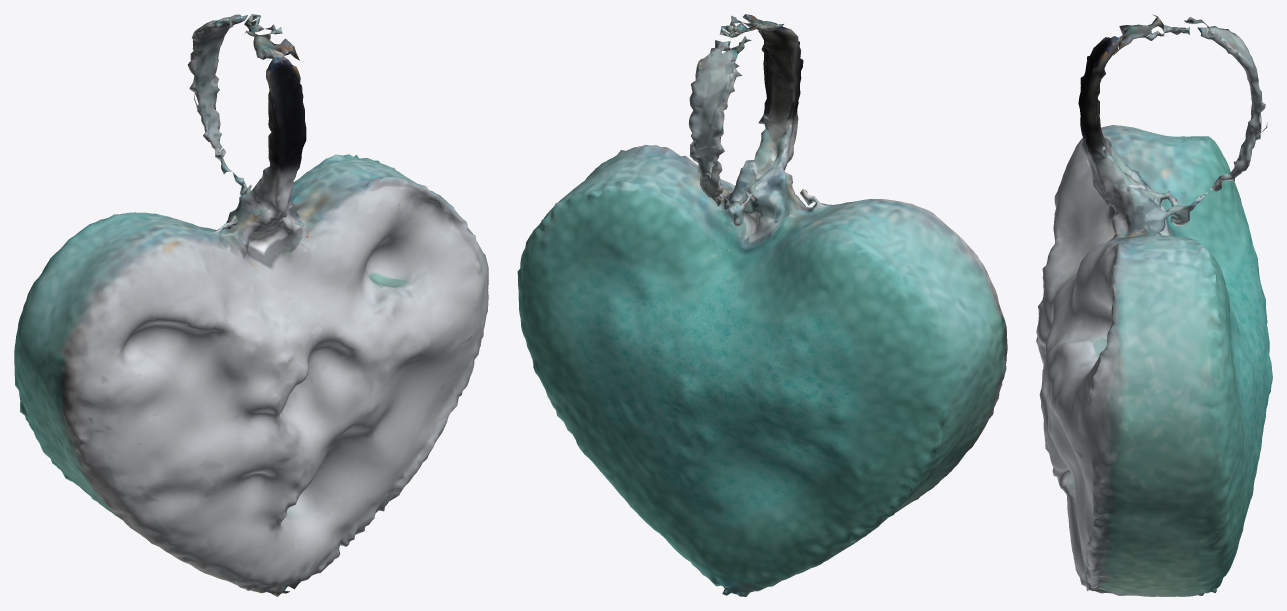
3 views of the same model, side by side, from view 1: azimuth 30°, elevation 25°; view 2: azimuth 150°, elevation 25°; view 3: azimuth 270°, elevation 25° (orthographic). The views are drawn at different scales.
Size of the model in its own units: 1 by 1.2 by 0.4488.
1 material, 1 textured.
